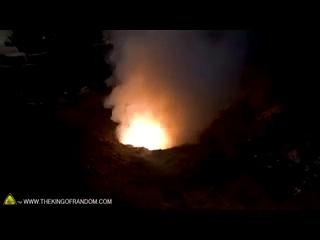Fire: (118, 76, 187, 148)
